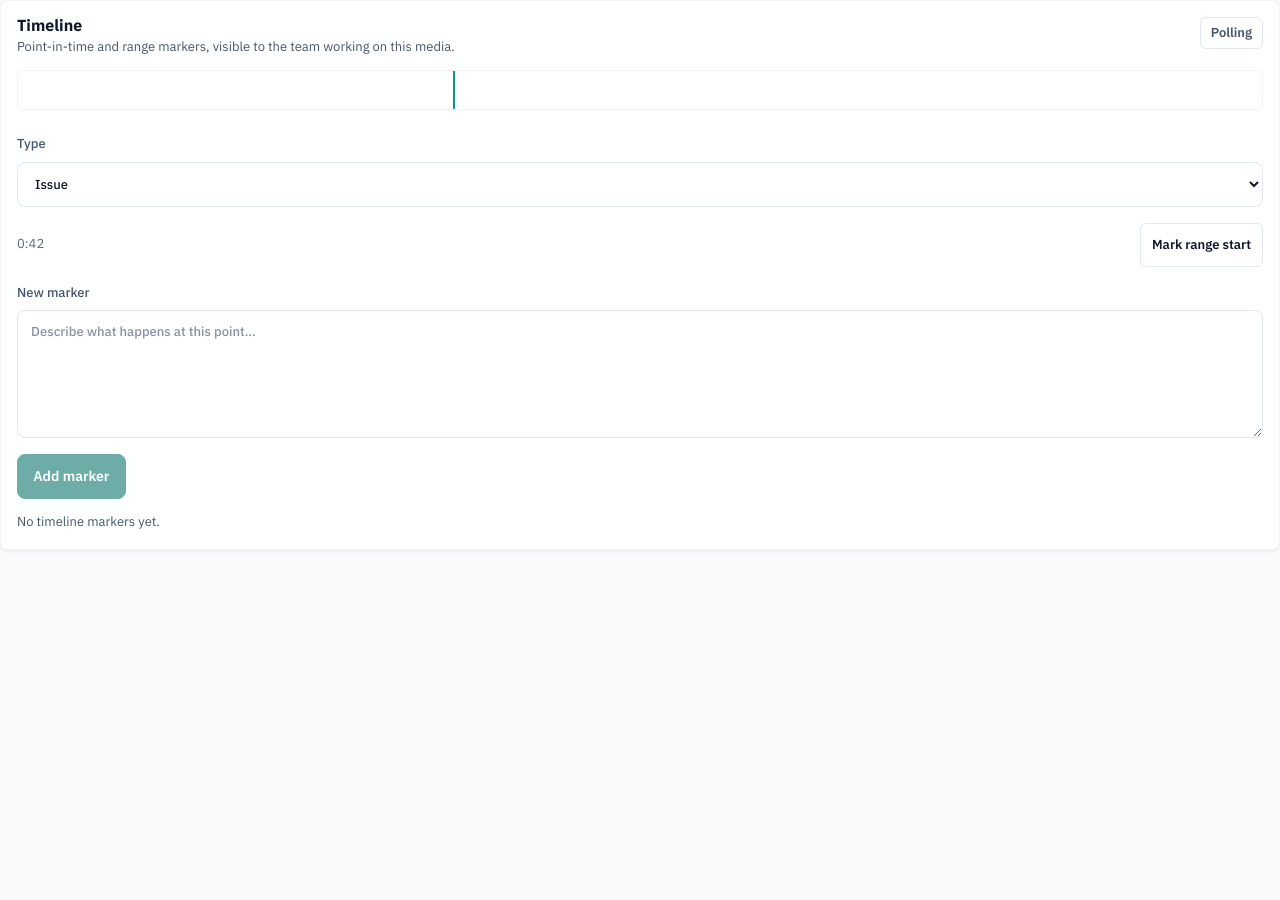
Test case: StudioTimelinePanel › creates a point-in-time comment at the current playback position
Expected: the text "No timeline markers yet." is shown, x1=17 y1=512 x2=160 y2=531
Type "New issue" into the text box with placeholder "Describe what happens at this point…". click: (640, 374)
box: x1=17 y1=310 x2=1263 y2=438
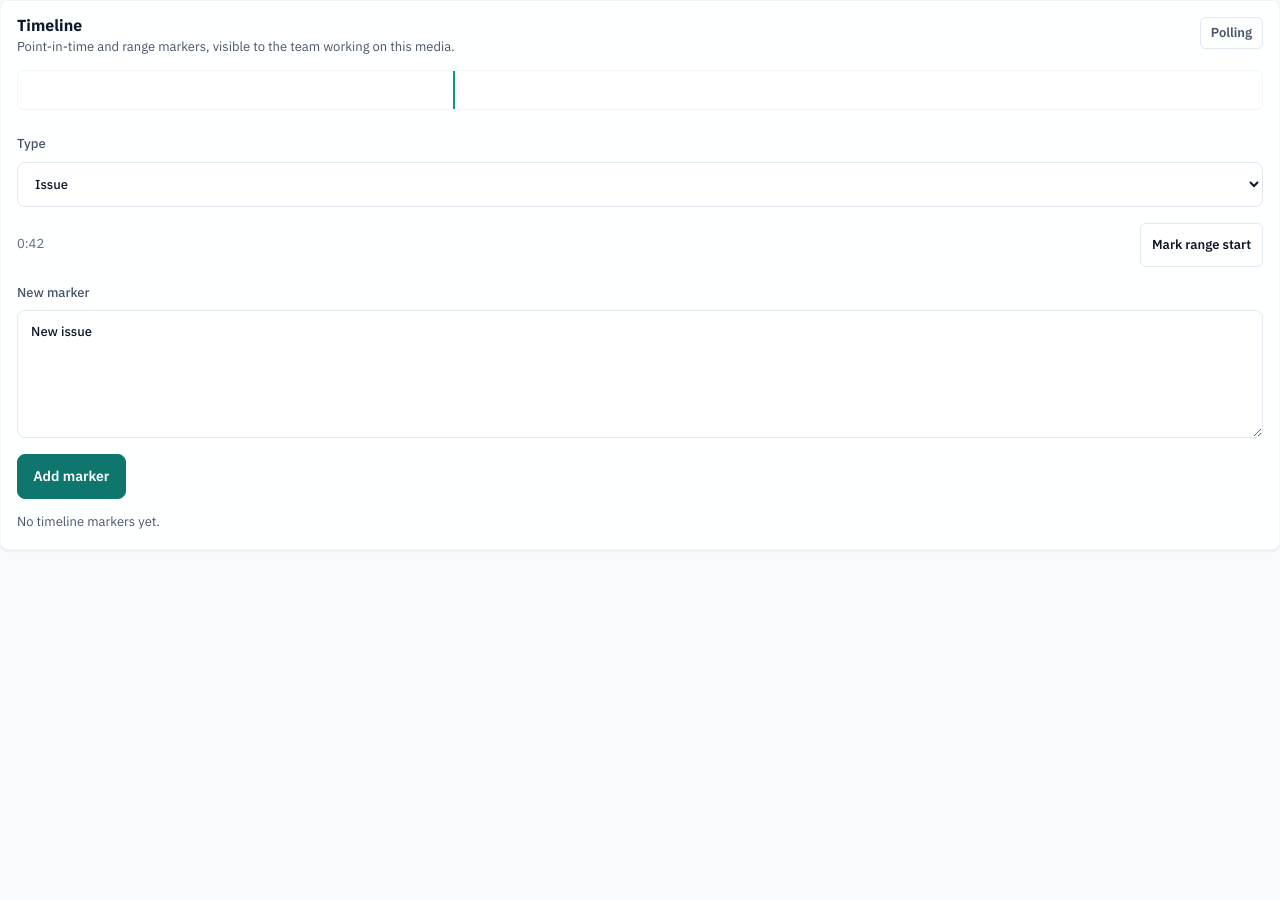
Click the button "Add marker". click: (71, 476)
box: x1=17 y1=454 x2=126 y2=499
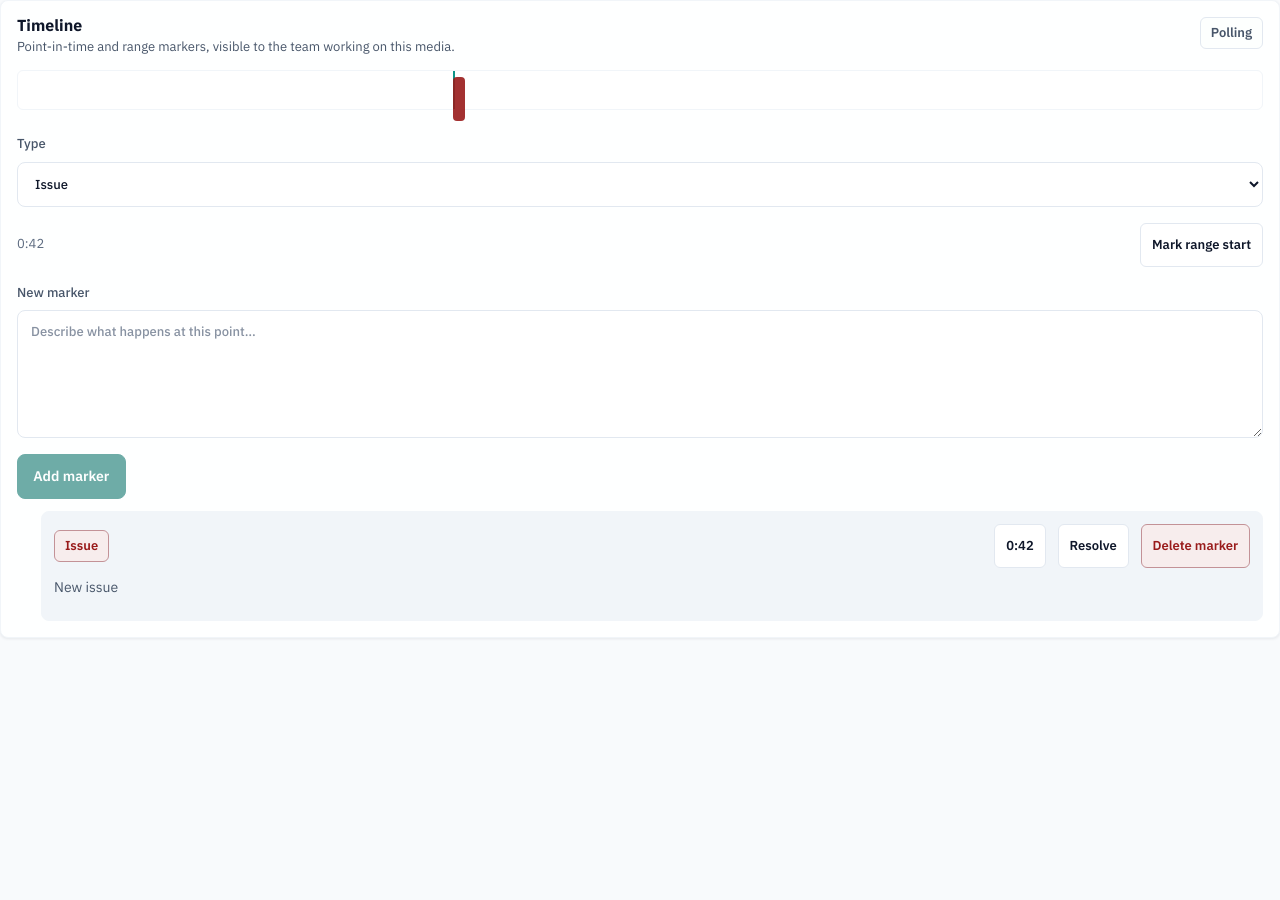
Expected: the text "New issue" is shown, x1=54 y1=577 x2=118 y2=598
